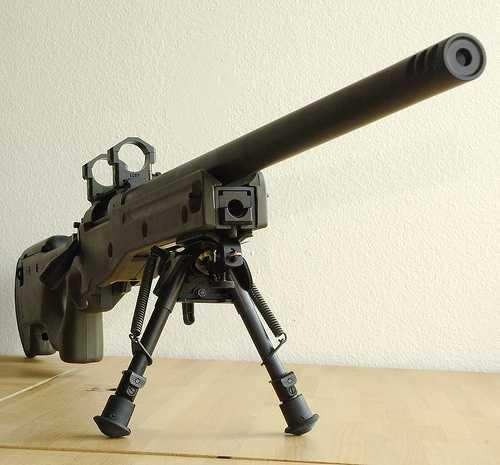heavyweapon: (12, 18, 492, 394)
